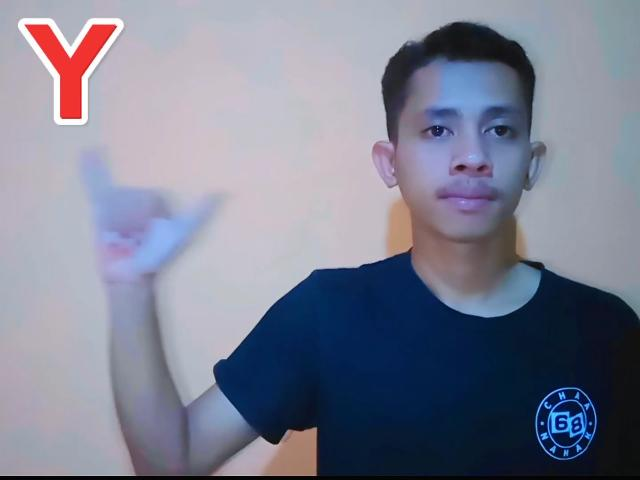Y: (78, 149, 224, 288)
